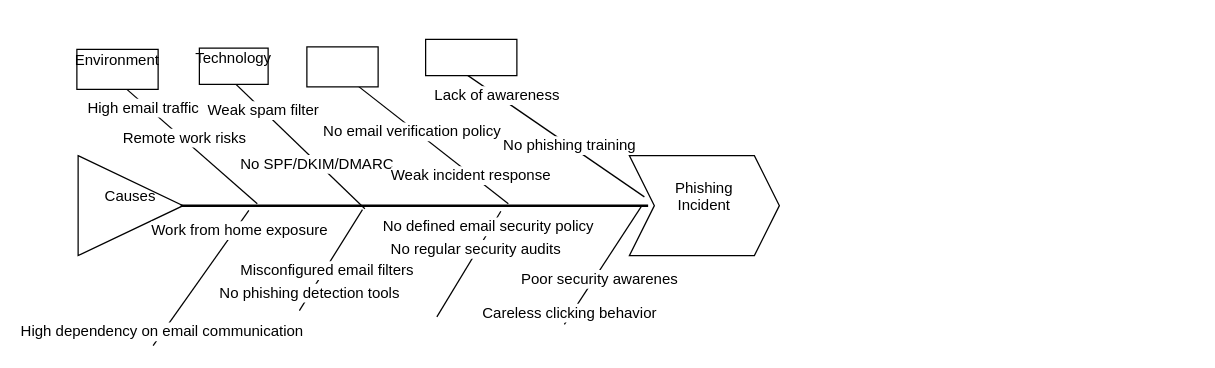
Some shapes in this 1215 by 368 pixel diagram are drawn without their labels. Each missing label, with the centre of its shape:
"People" belongs at [470,57].
"Process" belongs at [342,66].
